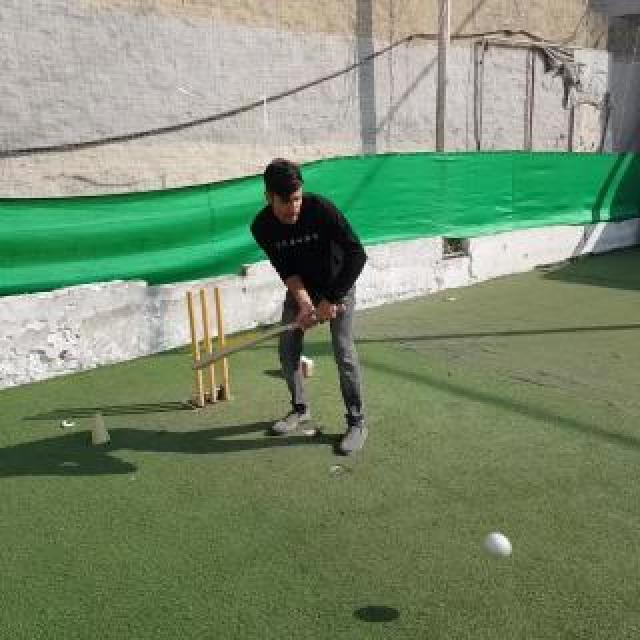ball: (484, 532, 514, 560)
bat: (190, 304, 346, 372)
